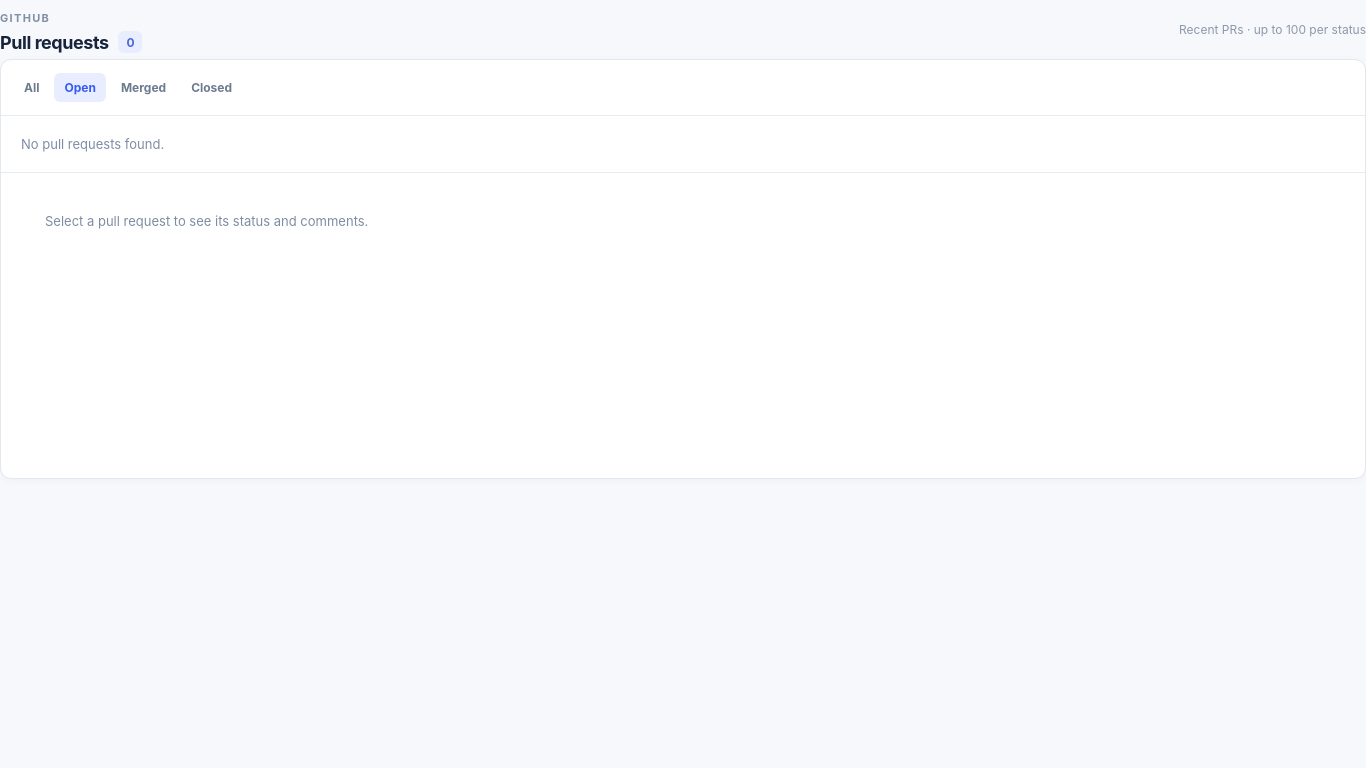
Test: pull request browser › shows no open PRs and lets the user browse merged PRs
The image size is (1366, 768).
Expected: the text "No pull requests found." is shown, top-left (21, 136), bottom-right (164, 152)
Expected: the text "Select a pull request to see its status and comments." is shown, top-left (45, 213), bottom-right (368, 229)
Step 1. Click the button "Merged" → [144, 88], box top-left (111, 73), bottom-right (176, 102)
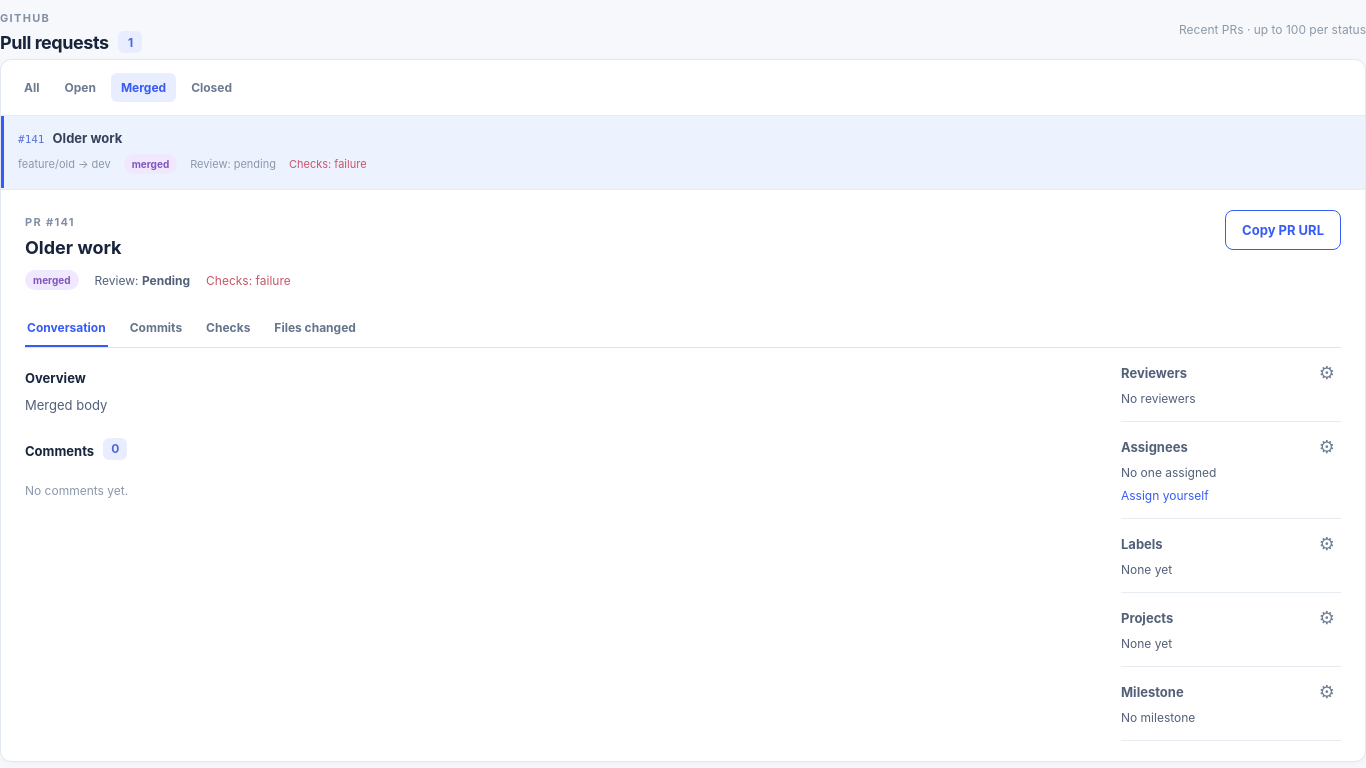
Result: the text "Merged body" is shown at top-left (25, 397), bottom-right (107, 413)
